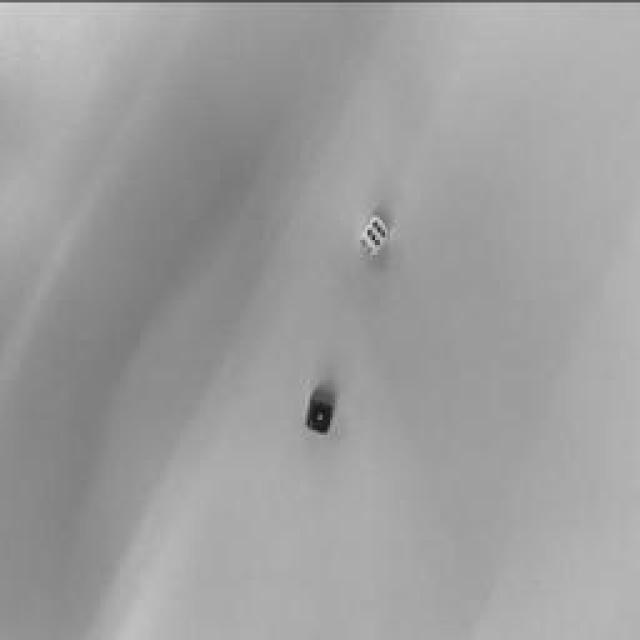dice_1: (308, 402, 332, 432)
dice_6: (364, 212, 388, 252)
